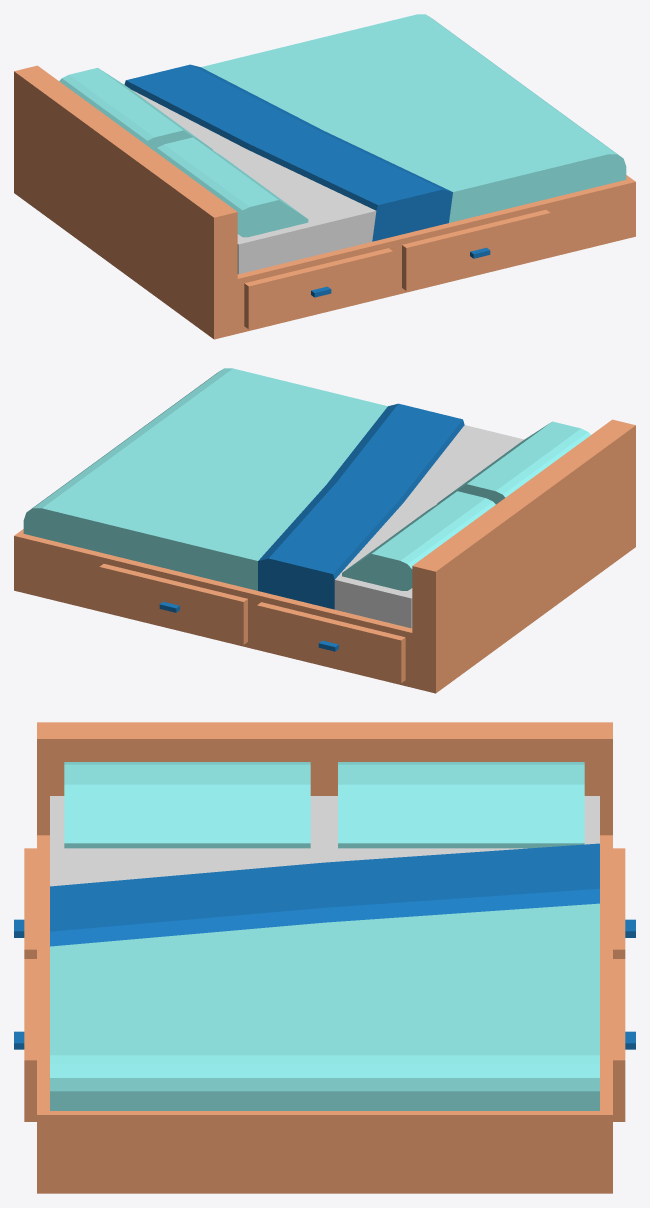
File: Bed 2 .fbx
3 views of the same model, one above another, from view 1: azimuth 30°, elevation 25°; view 2: azimuth 150°, elevation 25°; view 3: azimuth 270°, elevation 25° (orthographic). The views are drawn at different scales.
Visible parts, largest first — view 1: Bed 2; view 2: Bed 2; view 3: Bed 2.
Part boxes in pixels (box(x1,y1,x2,y2)): Bed 2: box(14, 14, 635, 339); Bed 2: box(14, 368, 635, 693); Bed 2: box(14, 722, 635, 1193).
Size of the model in its own units: 319 by 87.99 by 283.
